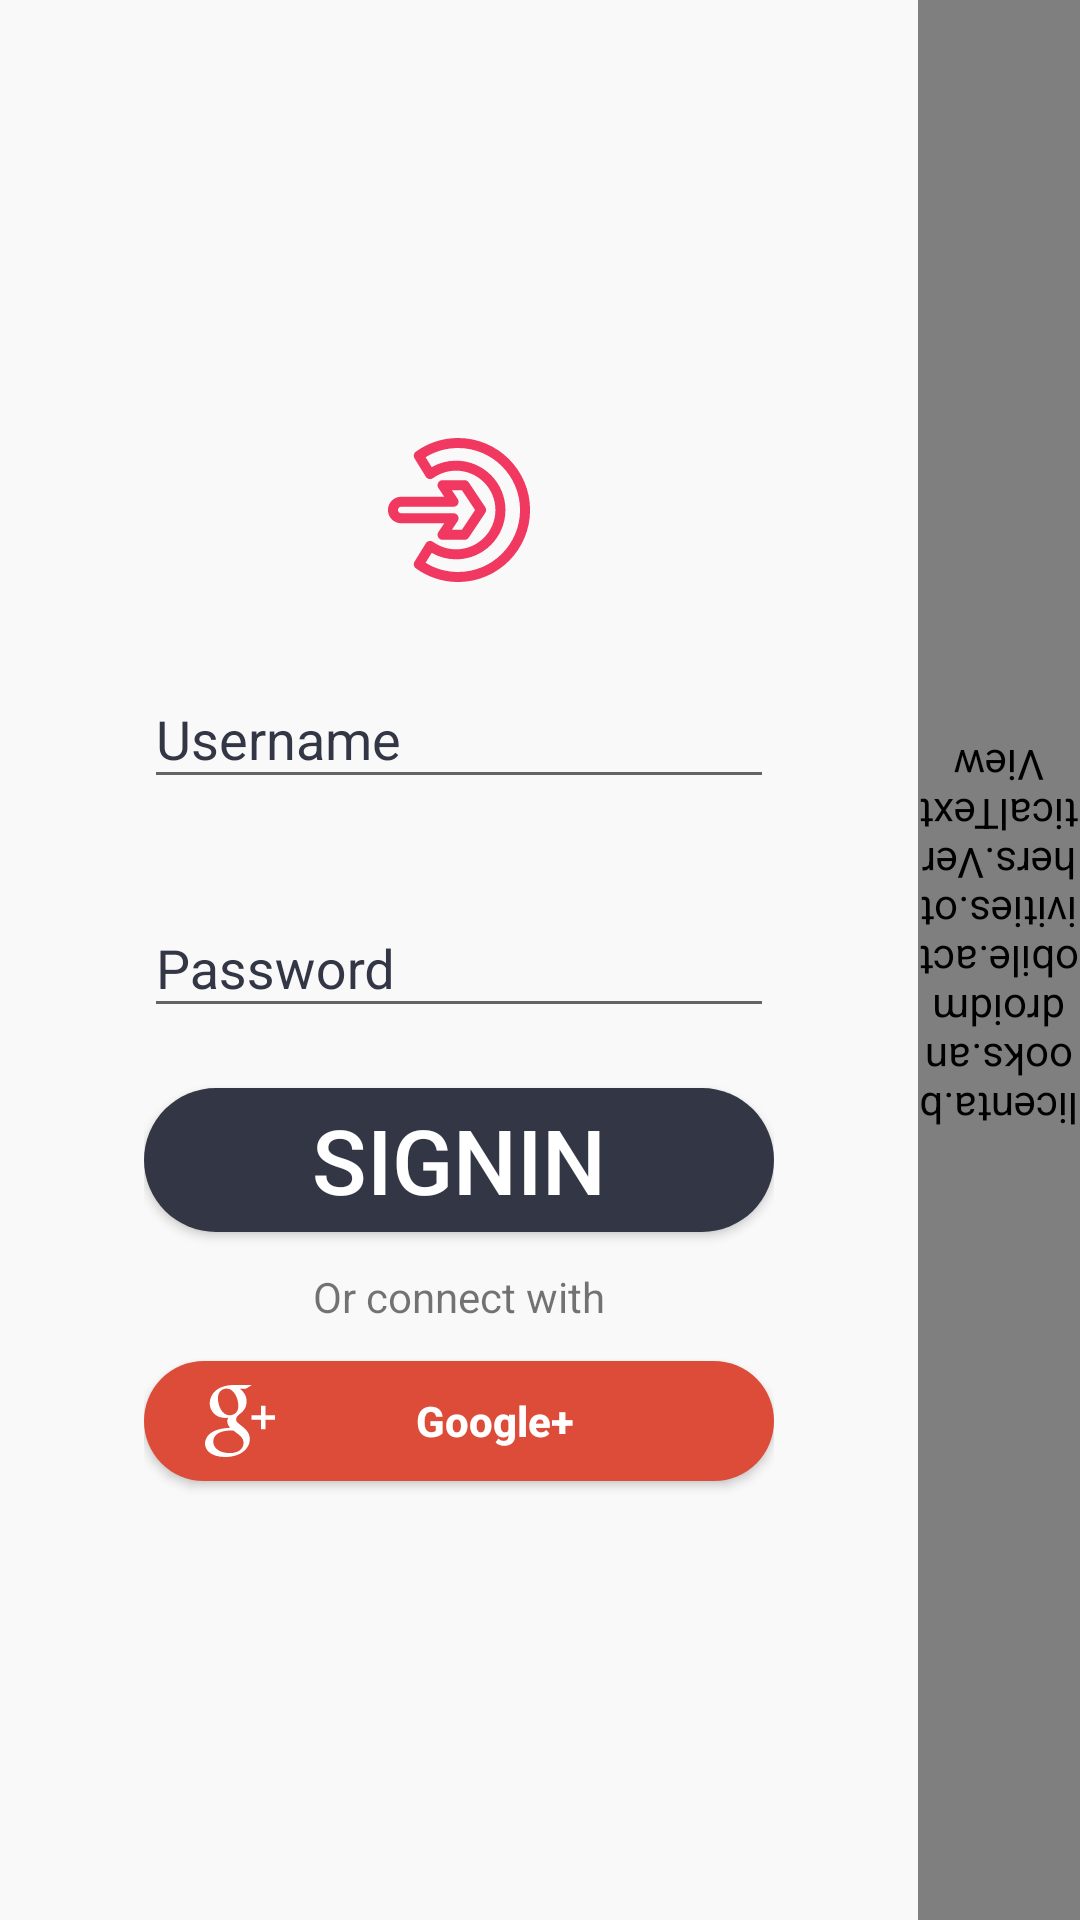

Locate icon controls on the screen. Image size 1080w x 1920h, boxes as (left=x1, top=y1, right=x2, bottom=y2).
login: (left=388, top=438, right=530, bottom=582)
